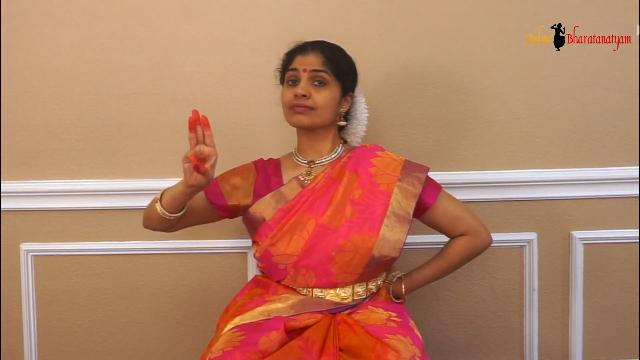trishool: (176, 95, 237, 227)
